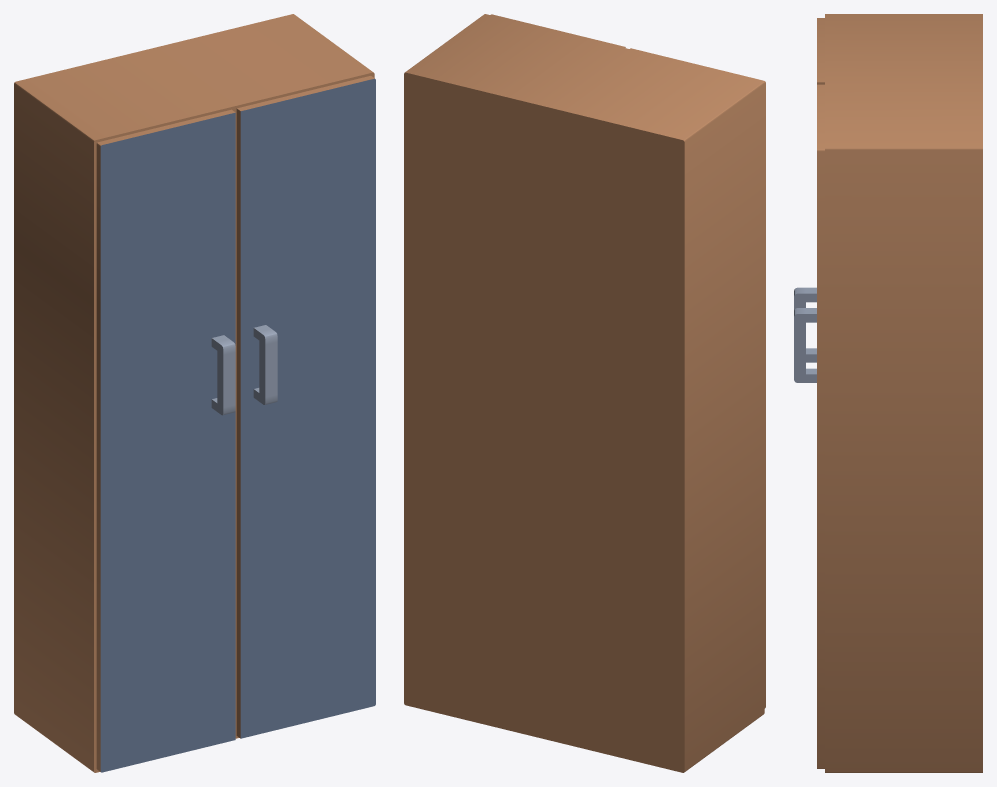
File: Cupboard.fbx
3 views of the same model, side by side, from view 1: azimuth 30°, elevation 25°; view 2: azimuth 150°, elevation 25°; view 3: azimuth 270°, elevation 25° (orthographic).
Parts seen in each view (by area): view 1: Cupboard; view 2: Cupboard; view 3: Cupboard.
Boxes of the visible parts, x1,y1,x2,y2 form: Cupboard: [14, 14, 375, 772]; Cupboard: [404, 14, 765, 772]; Cupboard: [794, 14, 982, 772].
Size of the model in its own units: 103 by 223 by 60.97.
